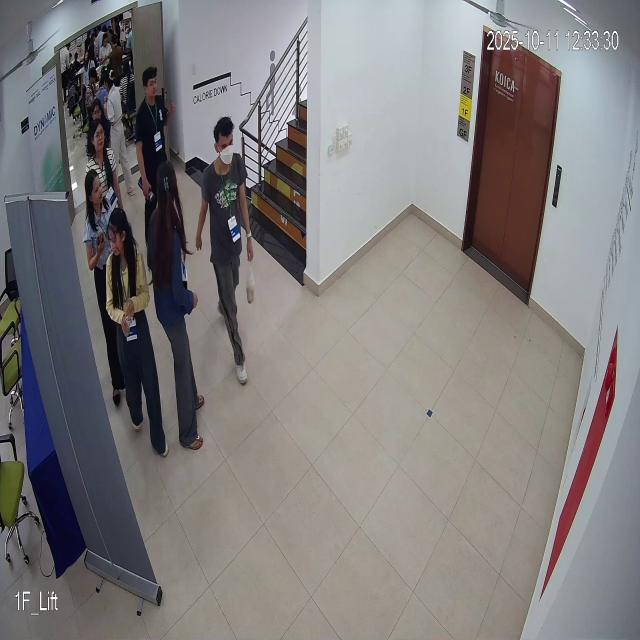face: (105, 205, 130, 260), (84, 167, 105, 211), (90, 118, 106, 154)
